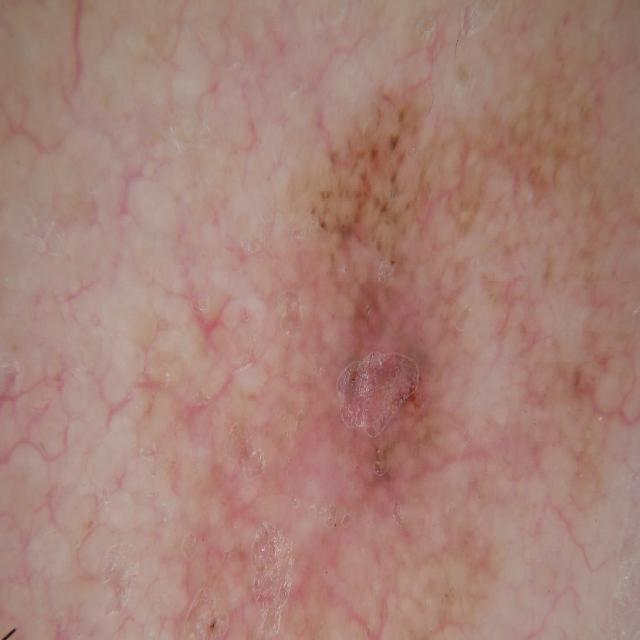Melanoma: (205, 102, 640, 578)
